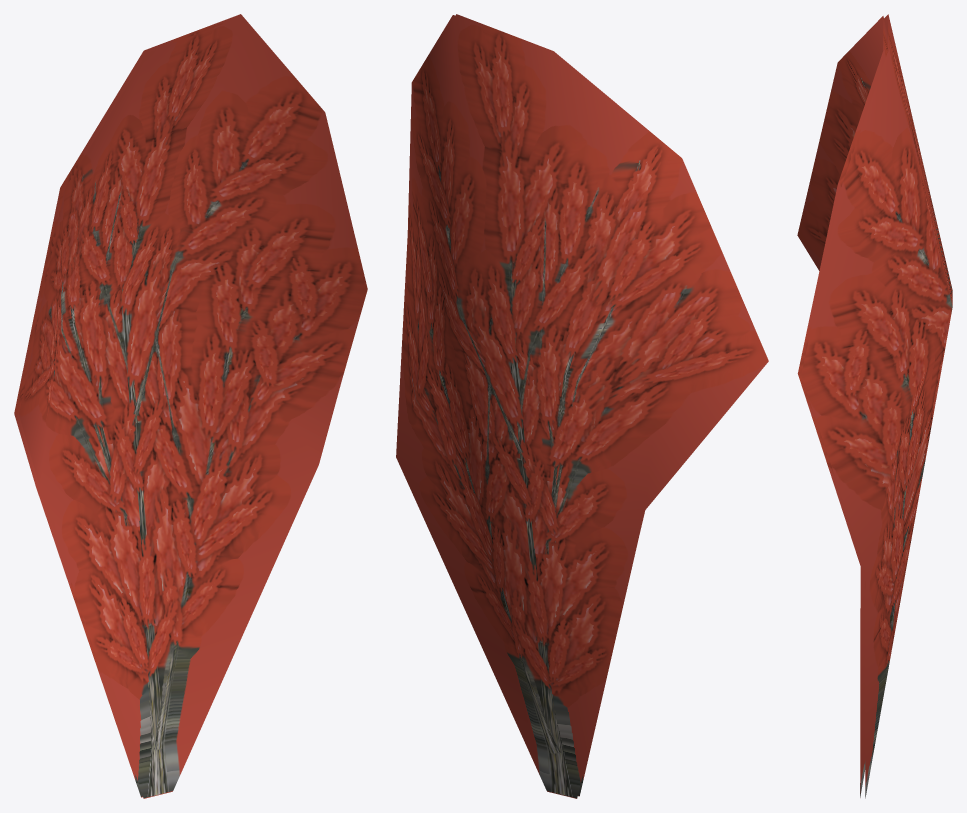
File: branch_1.fbx
The picture shows the model from 3 angles, left to right: view 1: azimuth 30°, elevation 25°; view 2: azimuth 150°, elevation 25°; view 3: azimuth 270°, elevation 25°; orthographic projection. The views are drawn at different scales.
Parts seen in each view (by area): view 1: branch_1; view 2: branch_1; view 3: branch_1.
Boxes of the visible parts, <box> form: branch_1: <box>14,14,367,798</box>; branch_1: <box>396,14,768,798</box>; branch_1: <box>797,14,952,798</box>.
Size of the model in its own units: 2.01 by 4.07 by 0.7237.
